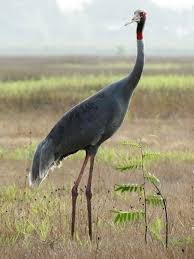seu_dau_do: (29, 8, 149, 238)
